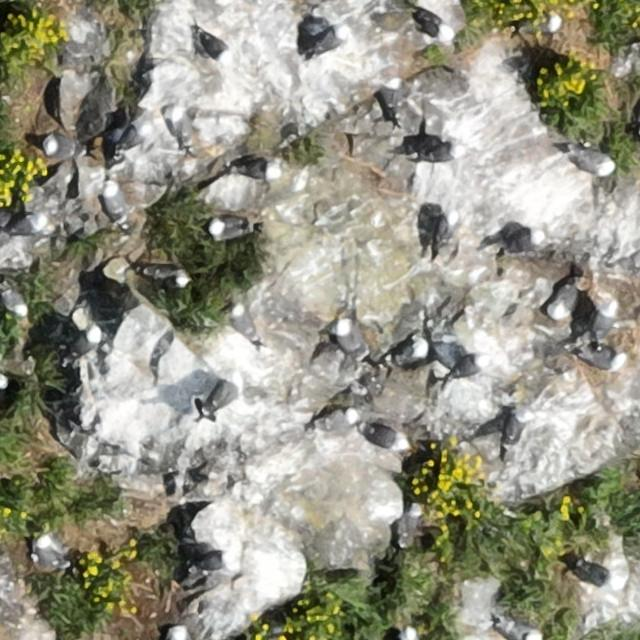umineko: (201, 371, 244, 421), (501, 408, 536, 455), (233, 150, 282, 183), (168, 104, 198, 156), (102, 180, 132, 231), (590, 294, 618, 347), (31, 534, 70, 572), (549, 277, 582, 321), (115, 116, 153, 154), (306, 26, 346, 61), (431, 211, 462, 255), (387, 336, 431, 365), (514, 12, 562, 38), (502, 228, 546, 254), (379, 78, 401, 128), (572, 151, 614, 176), (577, 347, 623, 369), (11, 213, 48, 240), (363, 428, 405, 450), (232, 308, 258, 342), (412, 11, 442, 39), (397, 508, 419, 545), (416, 144, 461, 162), (200, 34, 228, 62), (579, 565, 614, 587), (502, 620, 542, 639), (448, 358, 486, 378), (44, 137, 78, 157), (336, 320, 356, 353), (4, 289, 27, 316), (212, 221, 246, 239), (150, 267, 186, 284), (193, 553, 225, 571), (74, 331, 98, 352), (165, 626, 186, 639), (0, 371, 6, 391)
